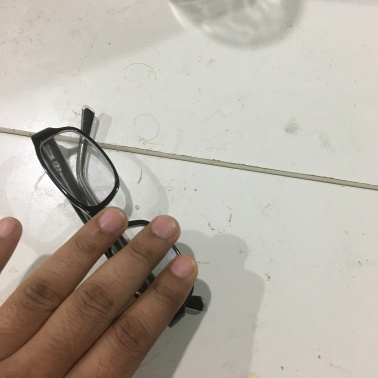glasses: (33, 119, 227, 312)
